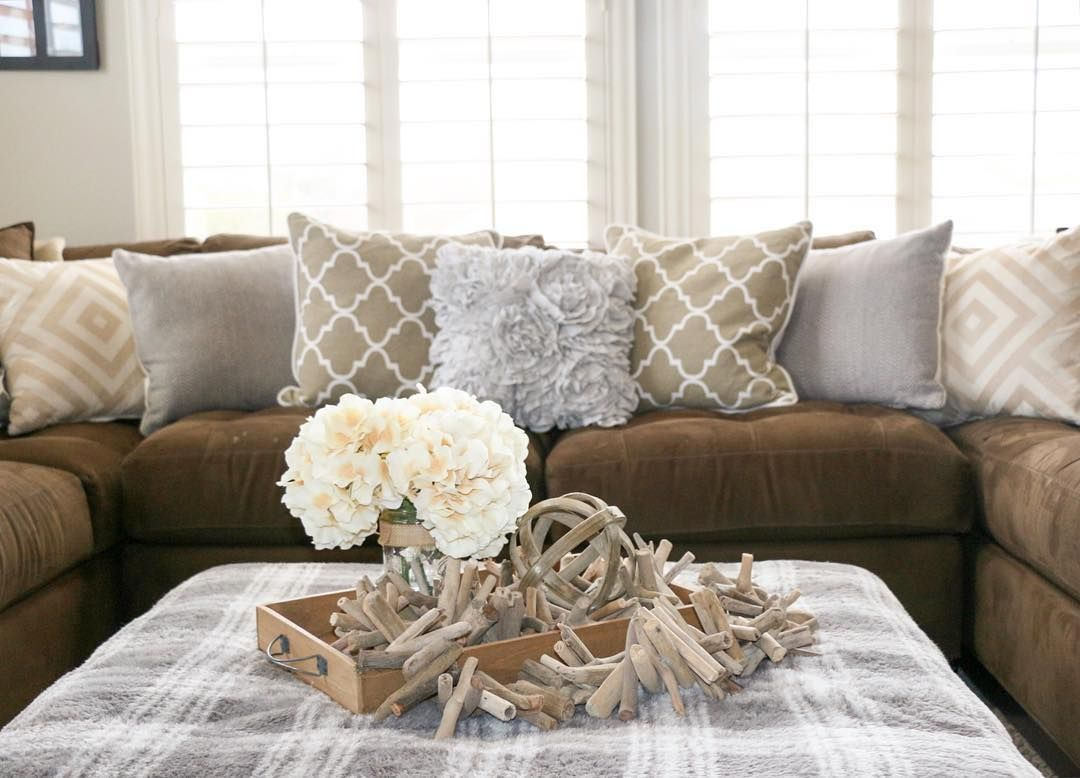chairs: (1, 219, 1080, 762)
